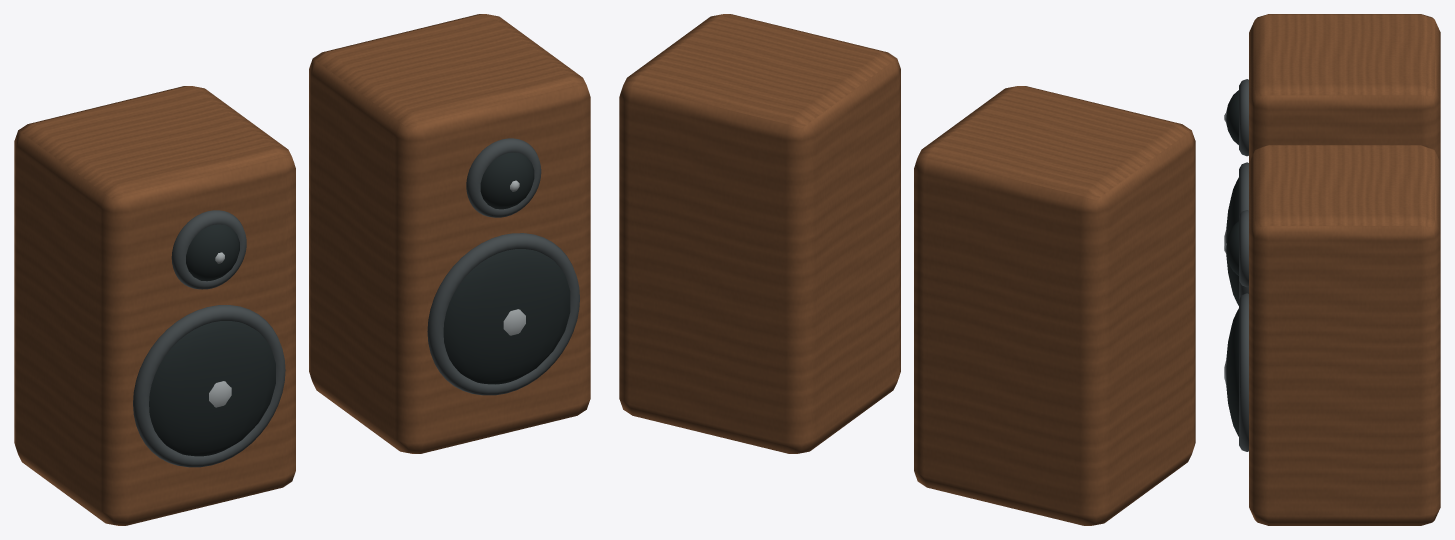
The model's file is spk_nearfield_pair-2fc426575a51.glb.
The picture shows the model from 3 angles, left to right: view 1: azimuth 30°, elevation 25°; view 2: azimuth 150°, elevation 25°; view 3: azimuth 270°, elevation 25°; orthographic projection. The views are drawn at different scales.
Parts seen in each view (by area): view 1: surface_walnut, surface_black, surface_graphite, surface_steel; view 2: surface_walnut; view 3: surface_walnut, surface_graphite, surface_black.
Part boxes in pixels (<box>): surface_walnut: <box>14,14,590,525</box>; surface_black: <box>149,152,570,456</box>; surface_graphite: <box>133,138,579,467</box>; surface_steel: <box>209,180,525,407</box>; surface_walnut: <box>619,14,1195,525</box>; surface_walnut: <box>1249,14,1440,525</box>; surface_graphite: <box>1239,79,1248,451</box>; surface_black: <box>1226,90,1238,436</box>.
Bounding box in the file's own units: 0.315 × 0.21 × 0.1327.
4 materials, 1 textured.
